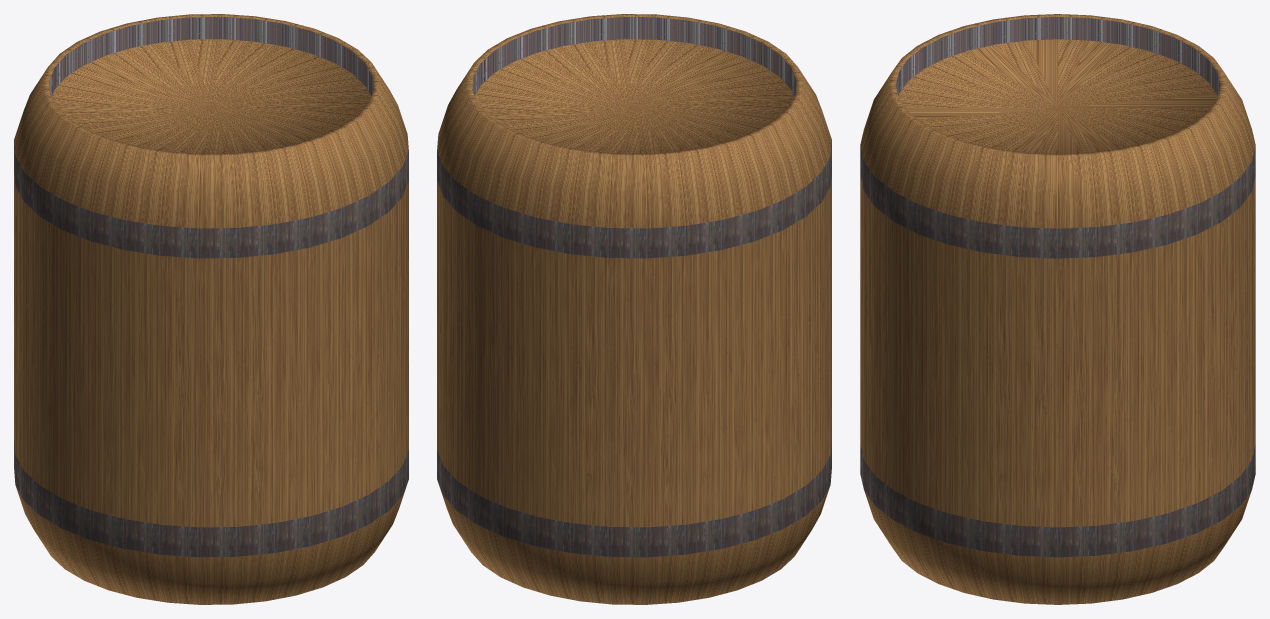
File: barrel.fbx
3 views of the same model, side by side, from view 1: azimuth 30°, elevation 25°; view 2: azimuth 150°, elevation 25°; view 3: azimuth 270°, elevation 25° (orthographic).
Parts seen in each view (by area): view 1: Cylinder; view 2: Cylinder; view 3: Cylinder.
Part boxes in pixels (x1=…): Cylinder: x1=14, y1=14, x2=408, y2=604; Cylinder: x1=437, y1=14, x2=831, y2=604; Cylinder: x1=860, y1=14, x2=1255, y2=604.
Size of the model in its own units: 800 by 1000 by 800.
